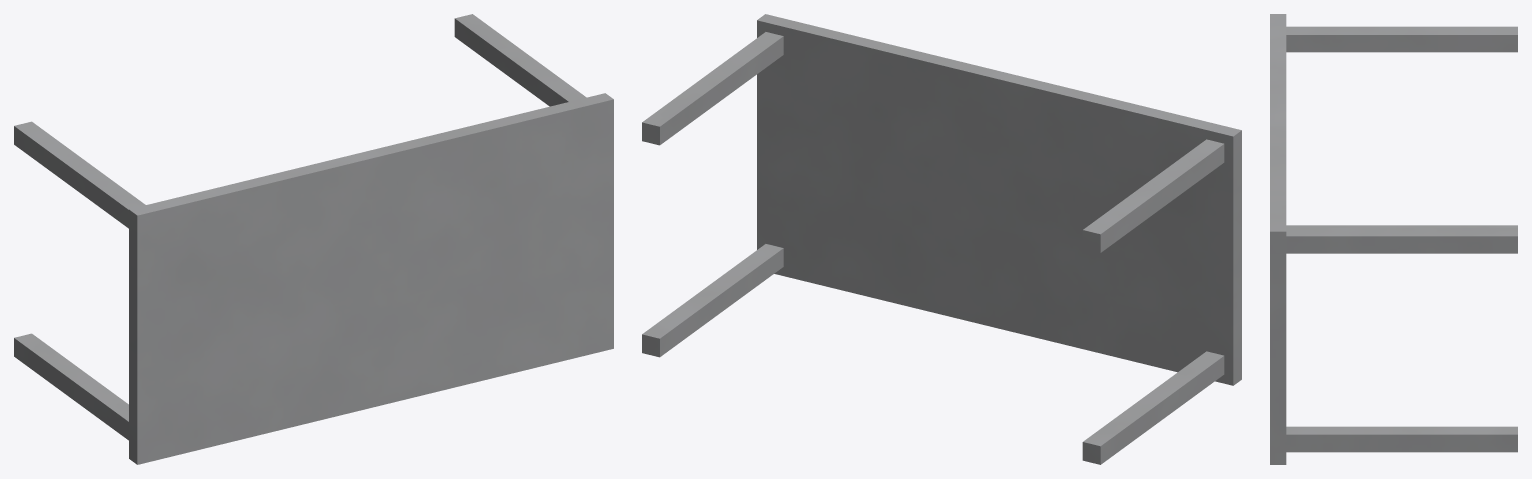
The model's file is table.glb.
The picture shows the model from 3 angles, left to right: view 1: azimuth 30°, elevation 25°; view 2: azimuth 150°, elevation 25°; view 3: azimuth 270°, elevation 25°; orthographic projection. The views are drawn at different scales.
Visible parts, largest first — view 1: decor_table_baked; view 2: decor_table_baked; view 3: decor_table_baked.
Part boxes in pixels (x1=…): decor_table_baked: x1=14, y1=14, x2=613, y2=464; decor_table_baked: x1=642, y1=14, x2=1241, y2=464; decor_table_baked: x1=1270, y1=14, x2=1517, y2=464.
Size of the model in its own units: 1.6 by 0.8 by 0.77.
1 material, 1 textured.
